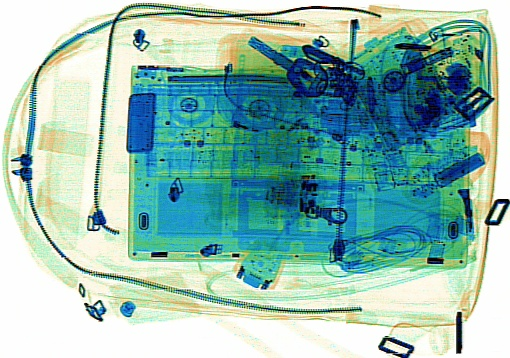lighter: (228, 103, 324, 157)
